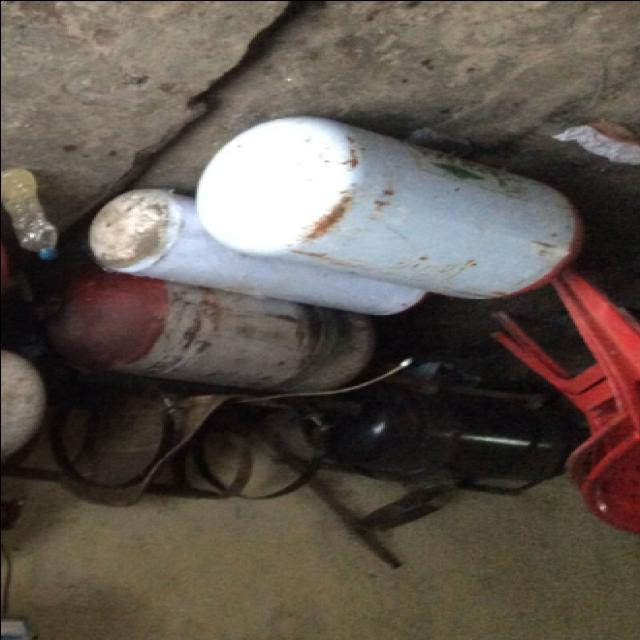cylinder: (196, 115, 582, 298), (87, 187, 427, 315)
